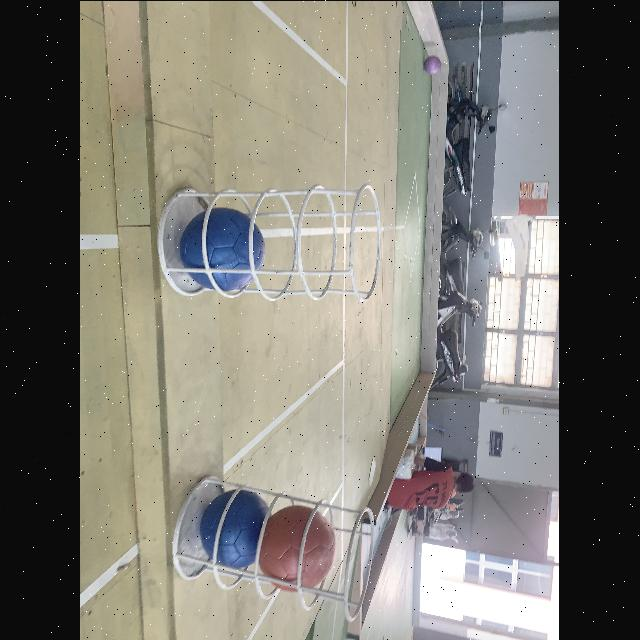B: (179, 205, 267, 288), (199, 487, 271, 568)
R: (258, 505, 338, 591)
